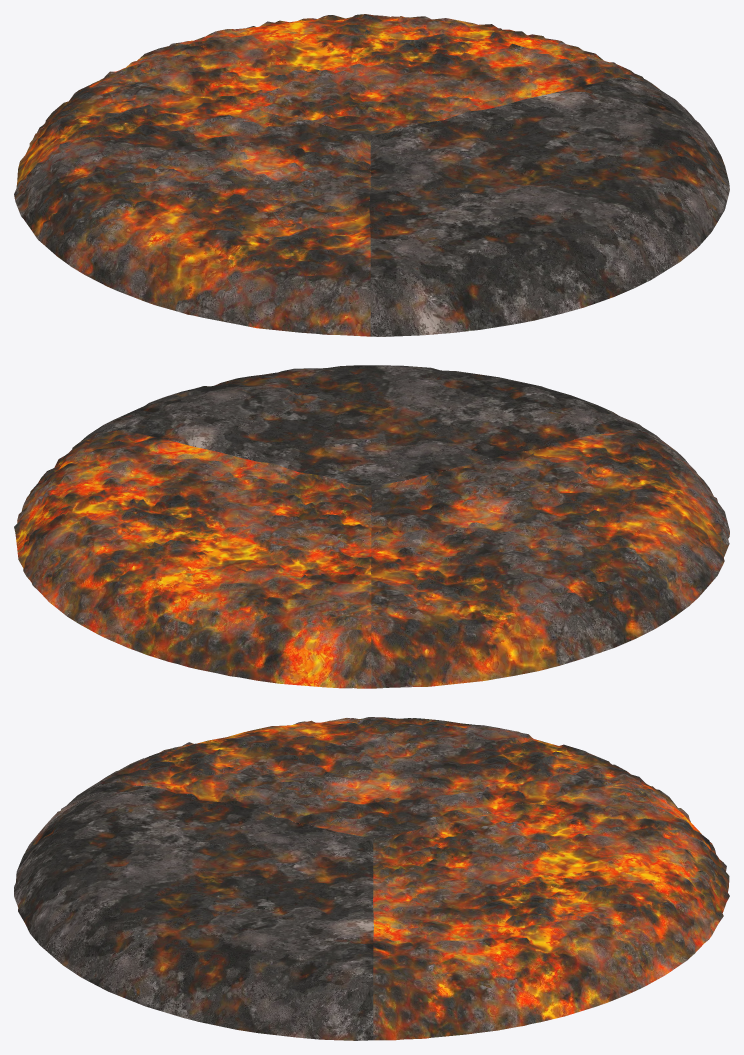
Rendered from lavafield.glb.
3 views of the same model, one above another, from view 1: azimuth 30°, elevation 25°; view 2: azimuth 150°, elevation 25°; view 3: azimuth 270°, elevation 25° (orthographic).
Visible parts, largest first — view 1: Object002_01 - Default_0 (×3); view 2: Object002_01 - Default_0 (×3); view 3: Object002_01 - Default_0 (×3).
Part boxes in pixels (bbox=[...]): Object002_01 - Default_0 (×3): bbox=[14, 14, 729, 336]; Object002_01 - Default_0 (×3): bbox=[14, 365, 729, 688]; Object002_01 - Default_0 (×3): bbox=[14, 717, 729, 1040].
Size of the model in its own units: 135 by 11.22 by 135.
3 materials, 3 textured.
